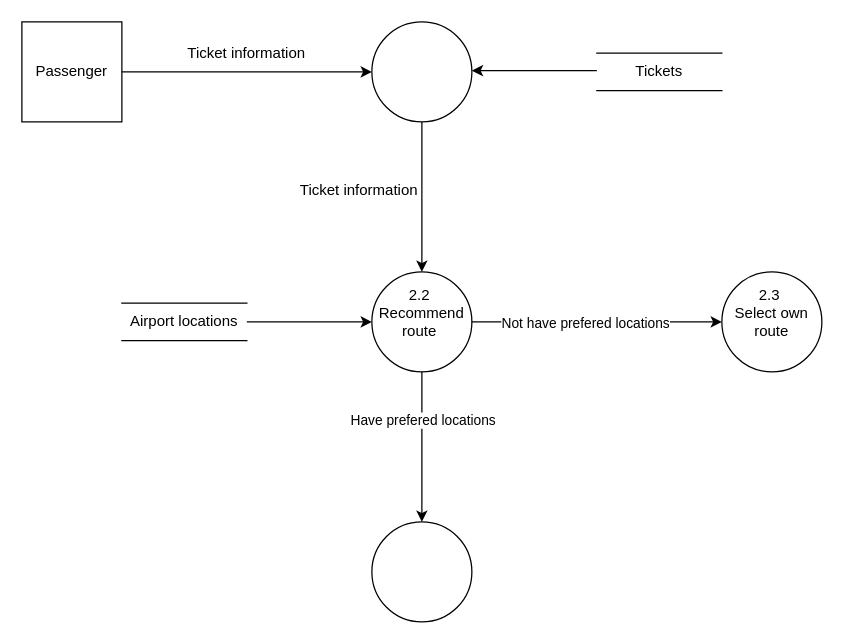
This 844x644 diagram has some shape labels left out. The centre of each missing label's shape, as x and y in pixels:
"2.1 Enter ticket ID" belongs at point (421, 71).
"2.4 Follow recommended route" belongs at point (421, 571).
